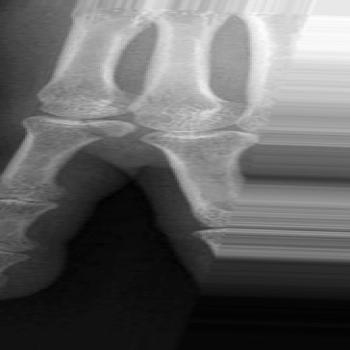Fracture: (66, 109, 137, 140)
